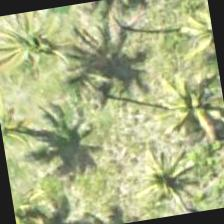Kelapa_Sawit: (112, 128, 214, 224), (141, 59, 223, 161), (0, 5, 84, 98)
